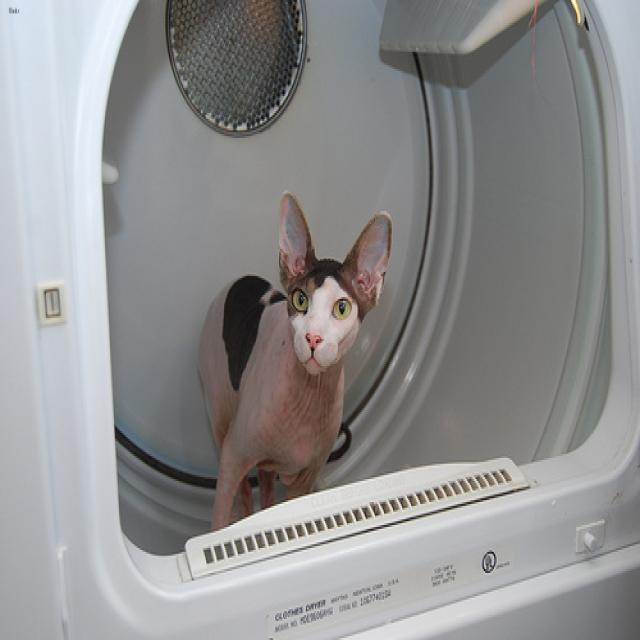Sphynx: (277, 190, 391, 372)
